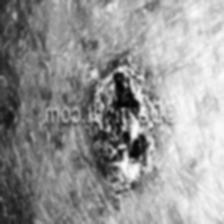Potentially Malignant Skin Tumors: (86, 55, 156, 187)
